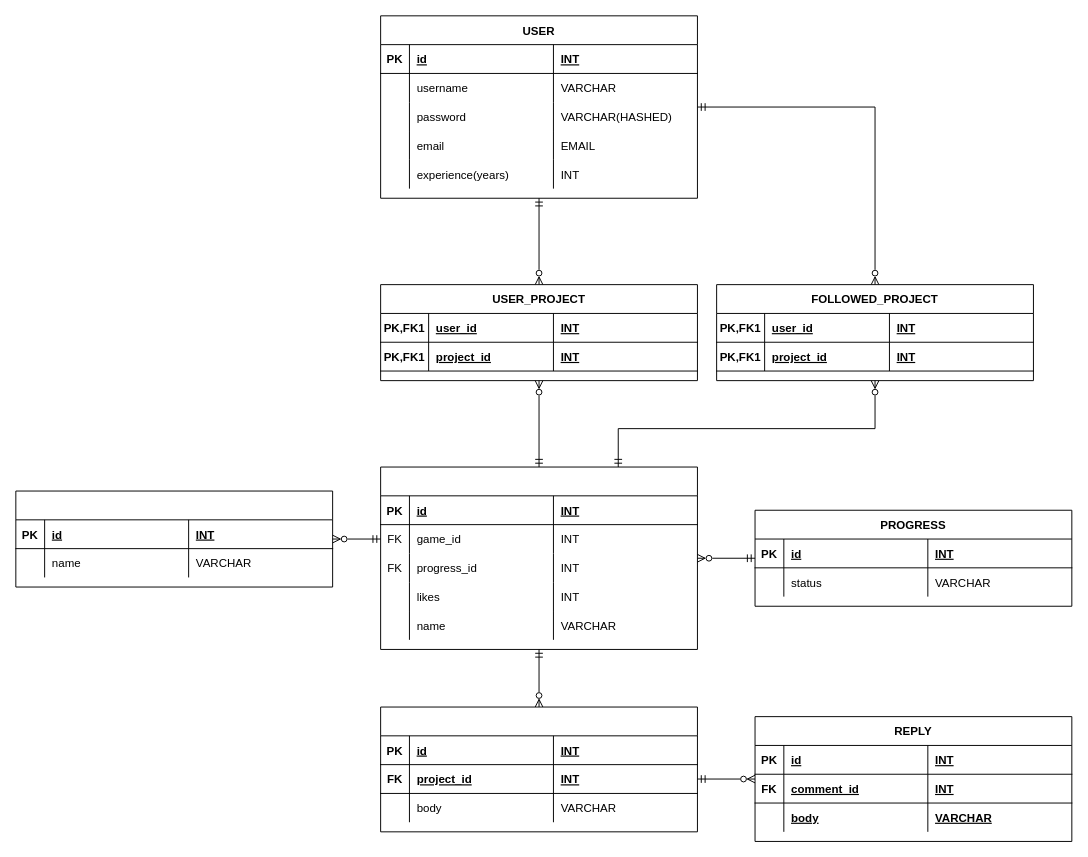
Image size: 1088x857. Some labels were removed from this diagram. Here are the shapes that lost their labels. From the top down, the box of each, then its label:
(15, 490, 333, 587): GAME
(380, 466, 697, 649): PROJECT
(380, 706, 697, 832): COMMENT
